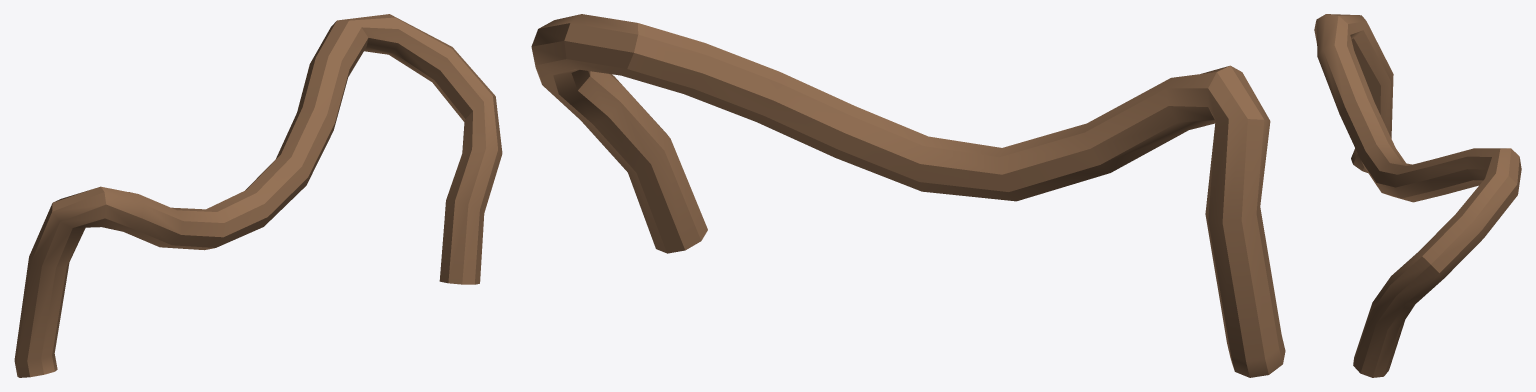
3 renders of one model, left to right at view 1: azimuth 30°, elevation 25°; view 2: azimuth 150°, elevation 25°; view 3: azimuth 270°, elevation 25°, orthographic. The views are drawn at different scales.
Parts seen in each view (by area): view 1: pCylinder5; view 2: pCylinder5; view 3: pCylinder5.
Boxes of the visible parts, bbox=[...] form: pCylinder5: bbox=[14, 14, 502, 377]; pCylinder5: bbox=[531, 14, 1285, 377]; pCylinder5: bbox=[1314, 14, 1521, 377].
Size of the model in its own units: 17.09 by 7.21 by 6.59.
